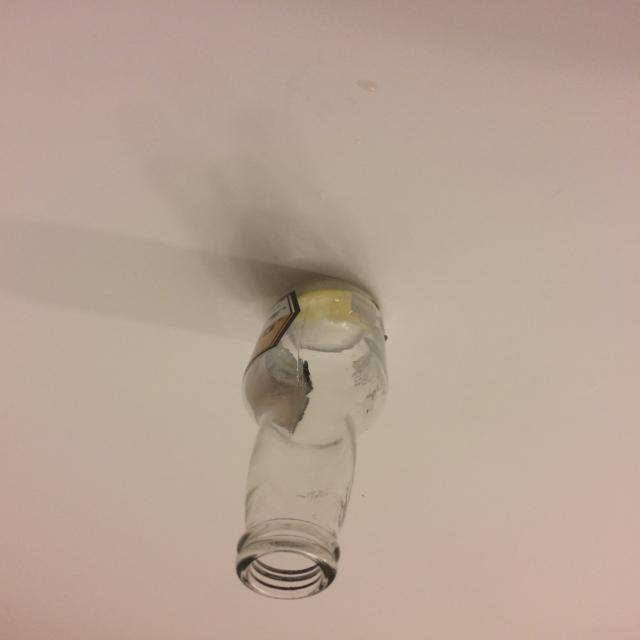glass: (234, 275, 390, 600)
